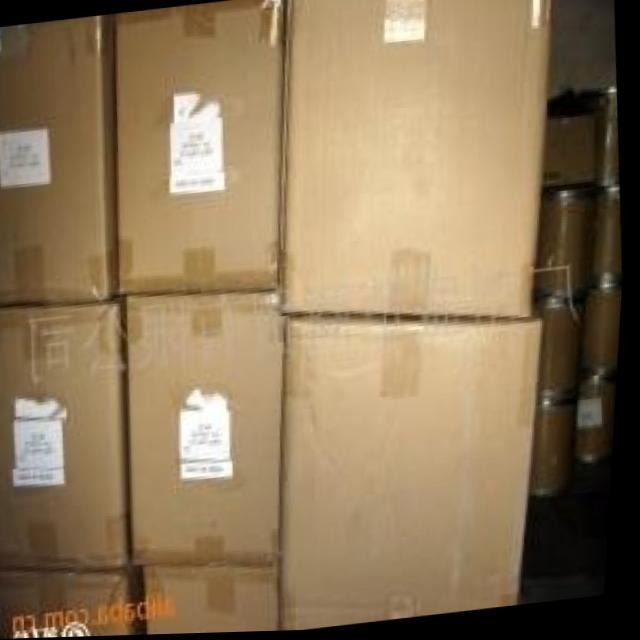box: (287, 0, 549, 322), (287, 317, 546, 633), (112, 0, 285, 295), (125, 292, 288, 570), (0, 295, 139, 567), (0, 17, 123, 303), (0, 564, 143, 639), (137, 566, 289, 636)
